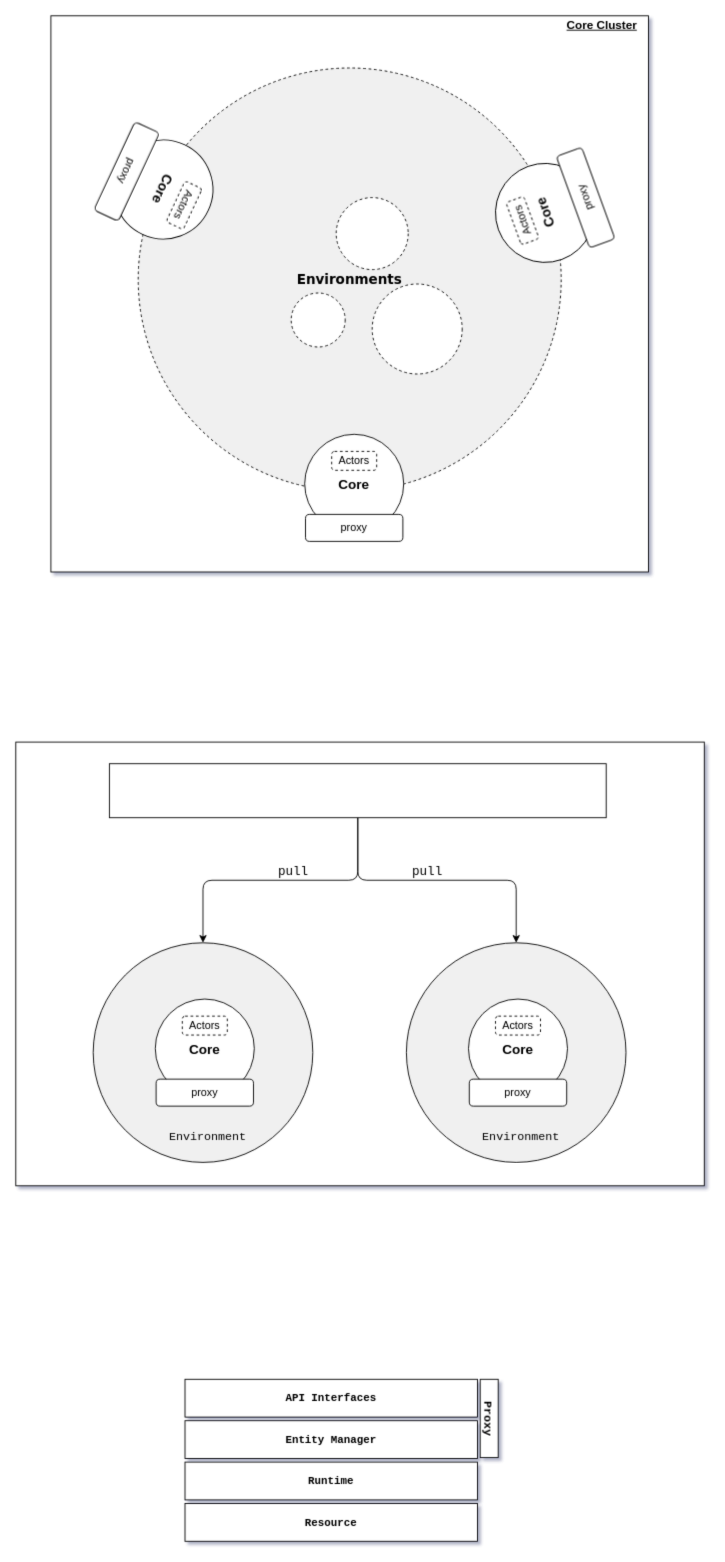
The diagram is 725 pixels wide and 1562 high, and some of its shapes have lost their labels. Each missing label, with the centre of its shape:
"Mappers" belongs at point (317, 319).
"Metadata" belongs at point (357, 790).
"Placement" belongs at point (416, 328).
"Tentacles" belongs at point (371, 233).
